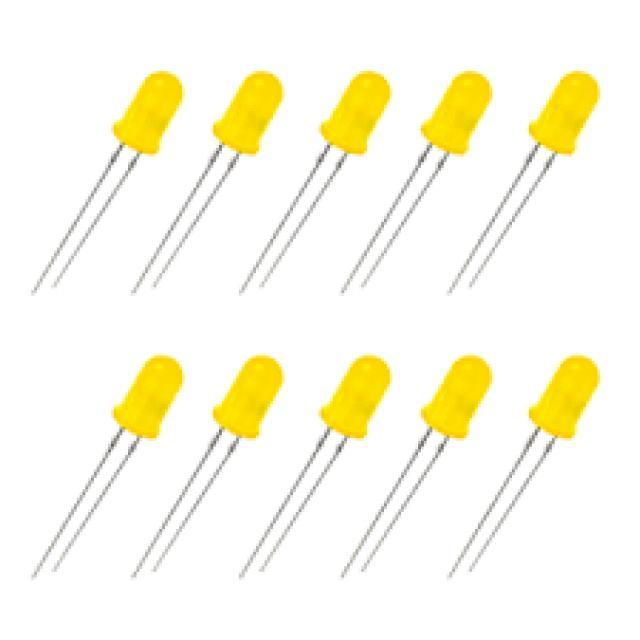Led: (341, 355, 491, 577), (449, 355, 599, 577), (32, 355, 182, 577), (449, 71, 599, 292), (341, 71, 491, 291), (241, 71, 390, 292), (132, 359, 282, 576), (152, 71, 282, 287), (259, 355, 390, 569), (54, 71, 182, 287)
